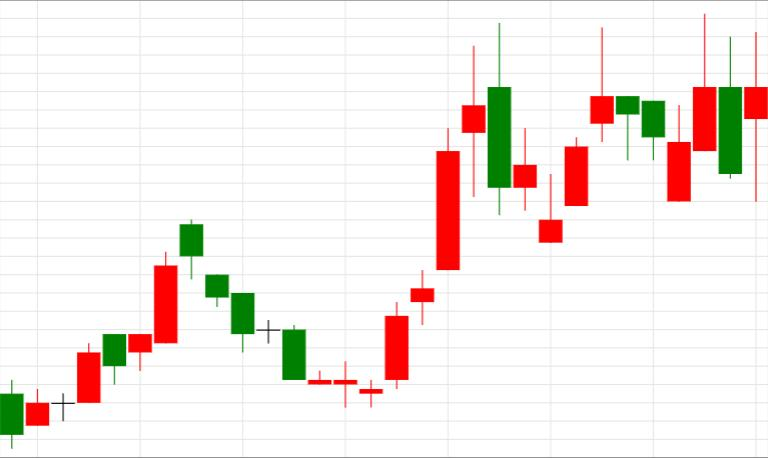bearish_engulfing_fall: (360, 22, 511, 407)
